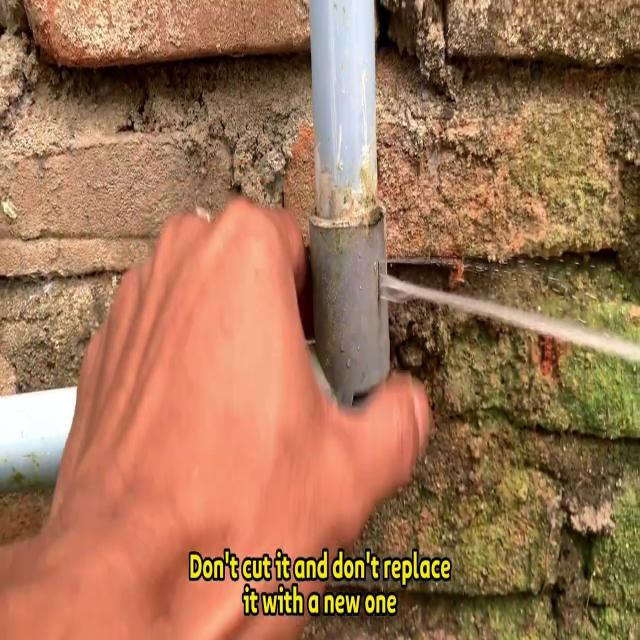leak: (377, 262, 638, 363)
